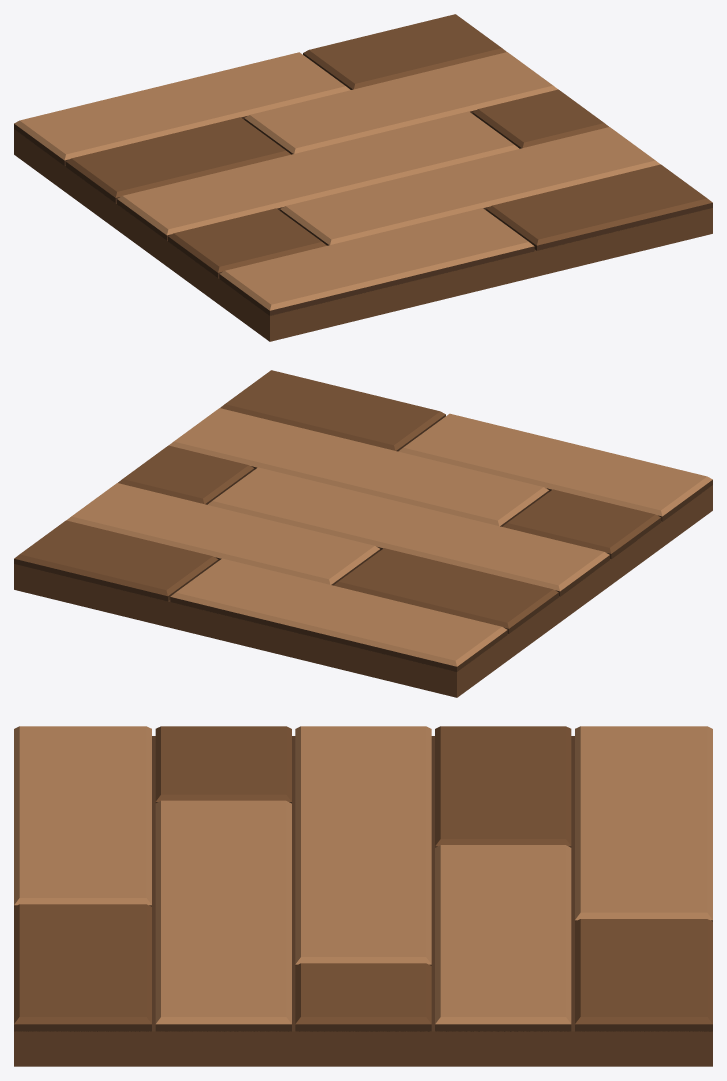
The model's file is FMS_Workshop_MOD_01.fbx.
The picture shows the model from 3 angles, top to bottom: view 1: azimuth 30°, elevation 25°; view 2: azimuth 150°, elevation 25°; view 3: azimuth 270°, elevation 25°; orthographic projection. The views are drawn at different scales.
Visible parts, largest first — view 1: FMS_Workshop_MOD_01_Body; view 2: FMS_Workshop_MOD_01_Body; view 3: FMS_Workshop_MOD_01_Body.
Boxes of the visible parts, x1,y1,x2,y2 form: FMS_Workshop_MOD_01_Body: (14,14,712,341); FMS_Workshop_MOD_01_Body: (14,370,712,697); FMS_Workshop_MOD_01_Body: (14,726,712,1066).
Bounding box in the file's own units: 2 × 0.15 × 2.
